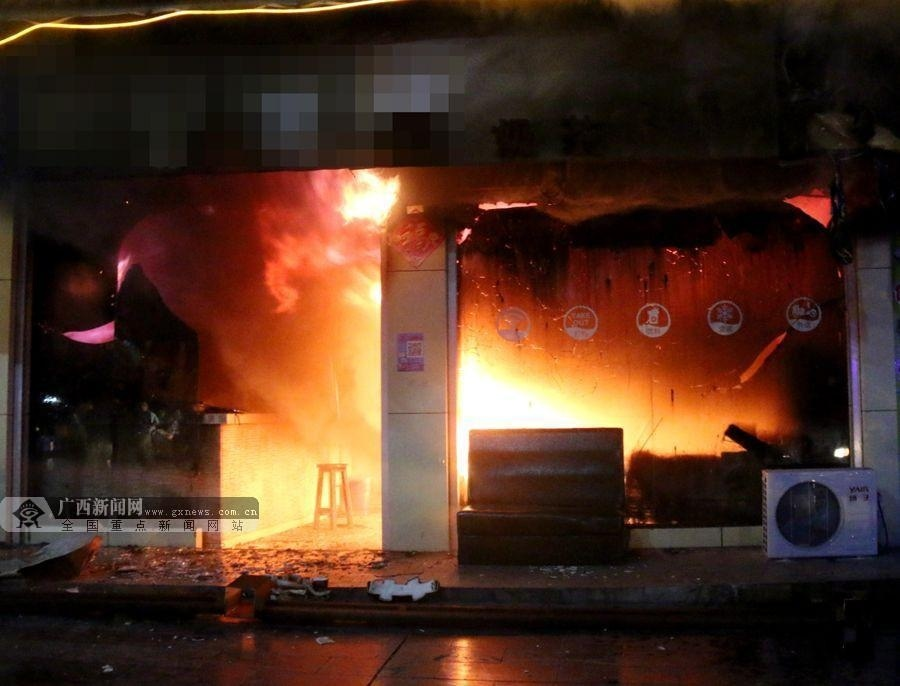fire: (337, 172, 399, 225)
